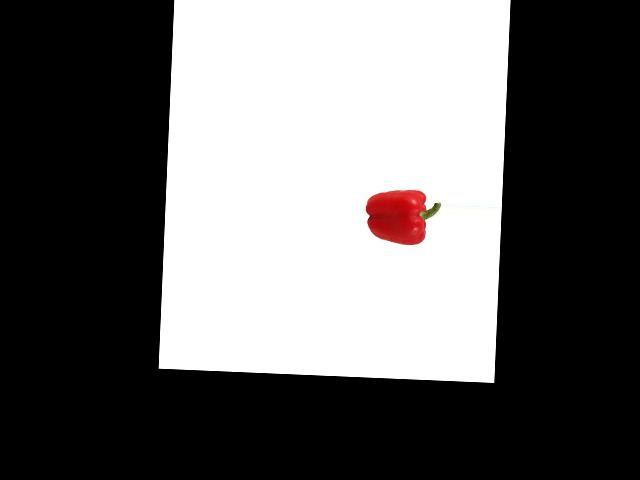bell_pepper: (363, 185, 441, 254)
